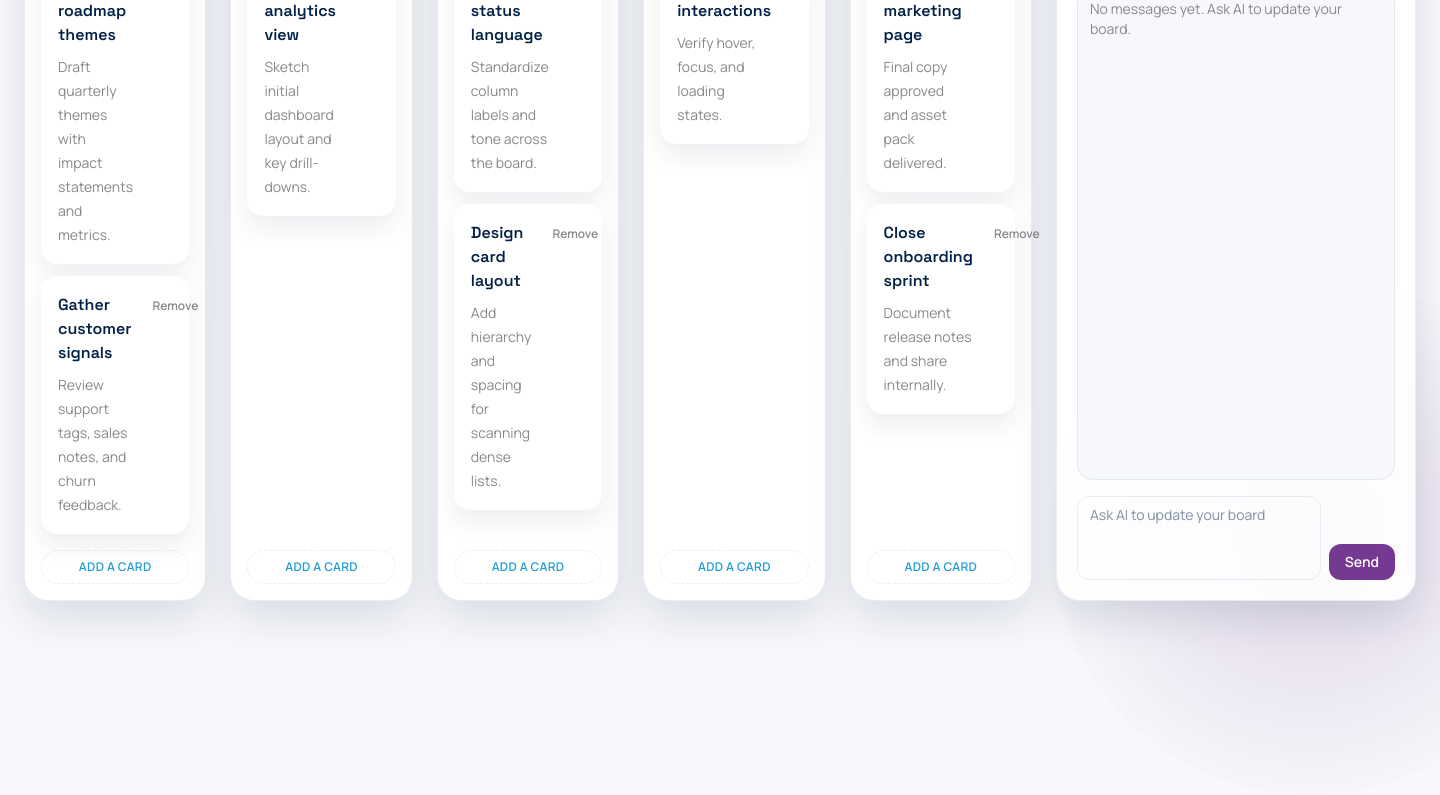
KanbanBoard › shows error when ai chat request fails
The image size is (1440, 795).
(page scrolled)
Type "Do something" into the text box with placeholder "Ask AI to update your board" at coordinates (1199, 538), box [1077,496,1321,580]
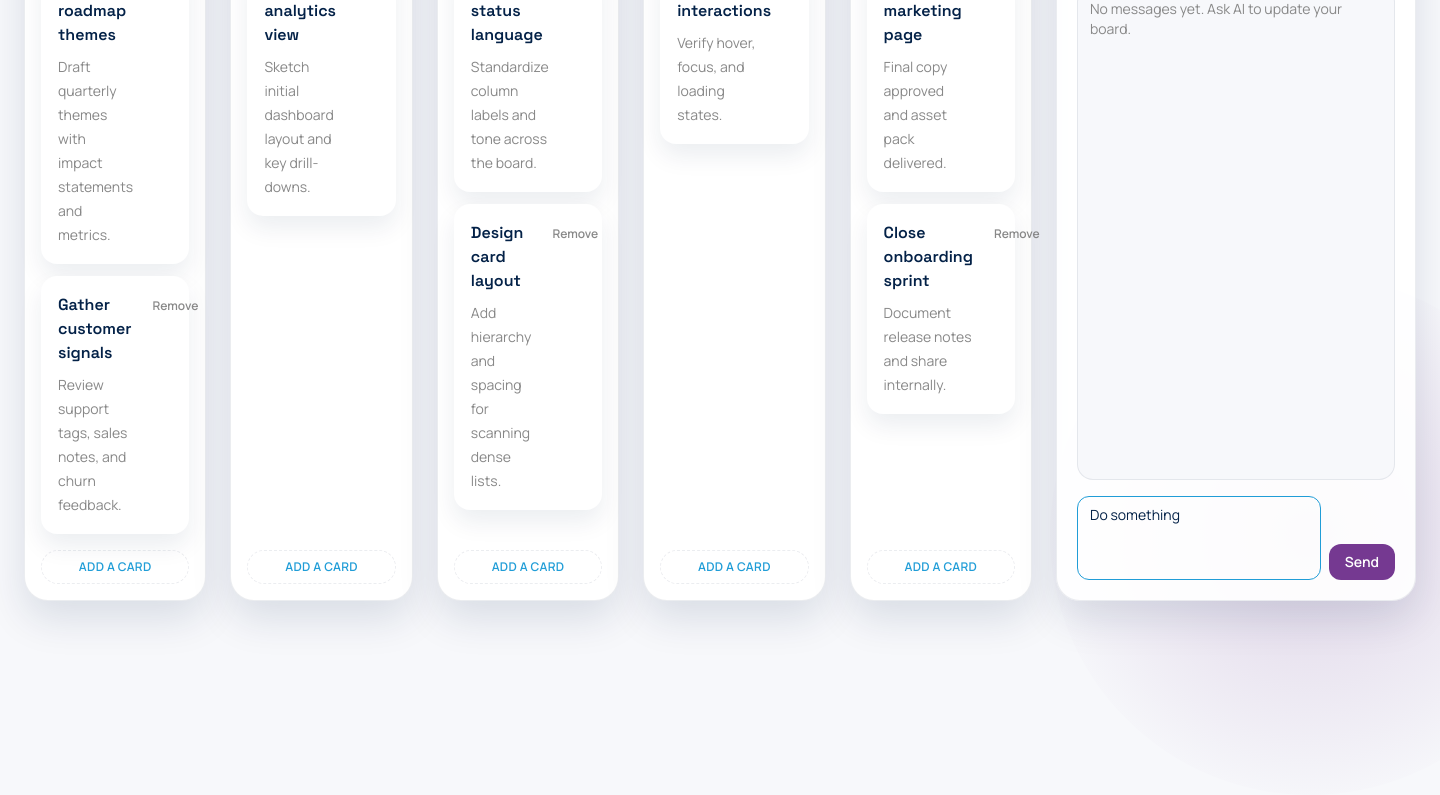
Click the button "Send" at coordinates (1362, 562), box [1329,544,1395,580]
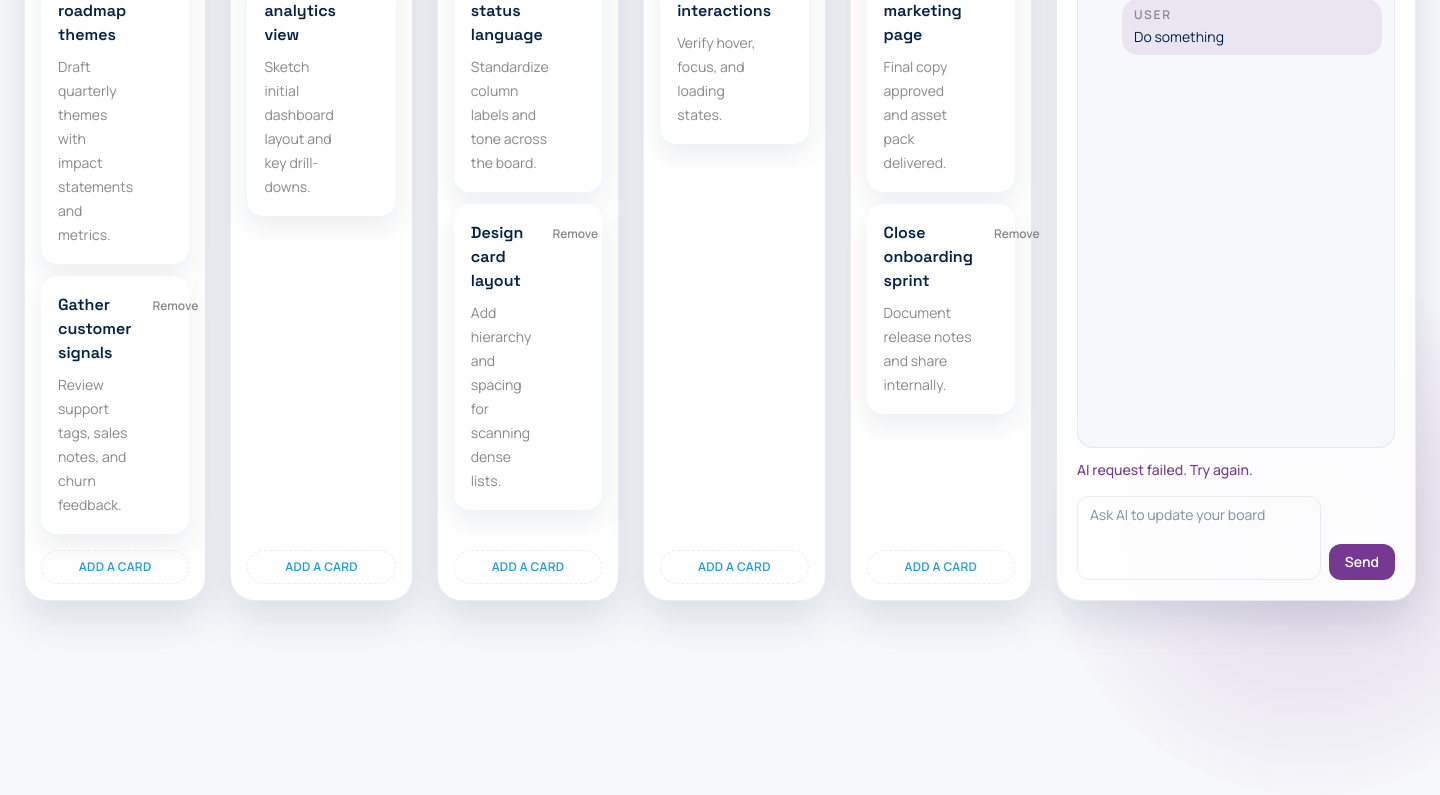
Now the text "AI request failed. Try again." is shown, box [1077,460,1253,479]
